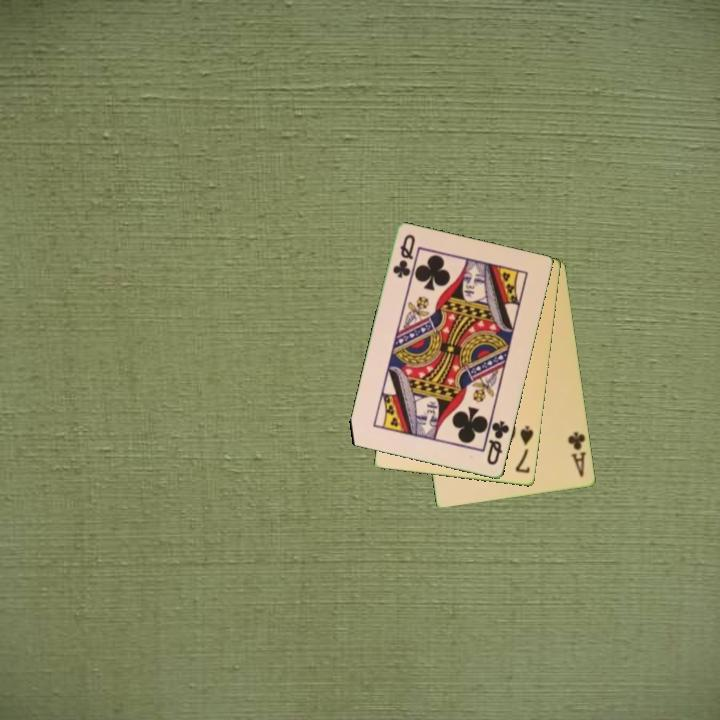7s: (512, 423, 537, 476)
Ac: (564, 428, 590, 480)
Qc: (483, 418, 513, 468), (389, 231, 418, 281)
